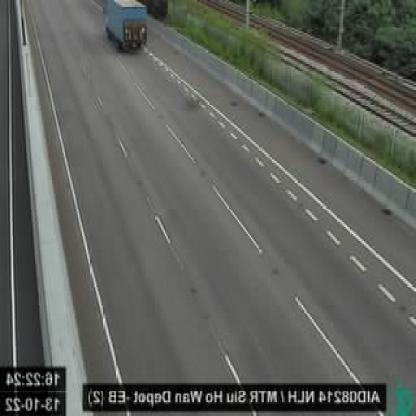Truck: (100, 0, 149, 55)
